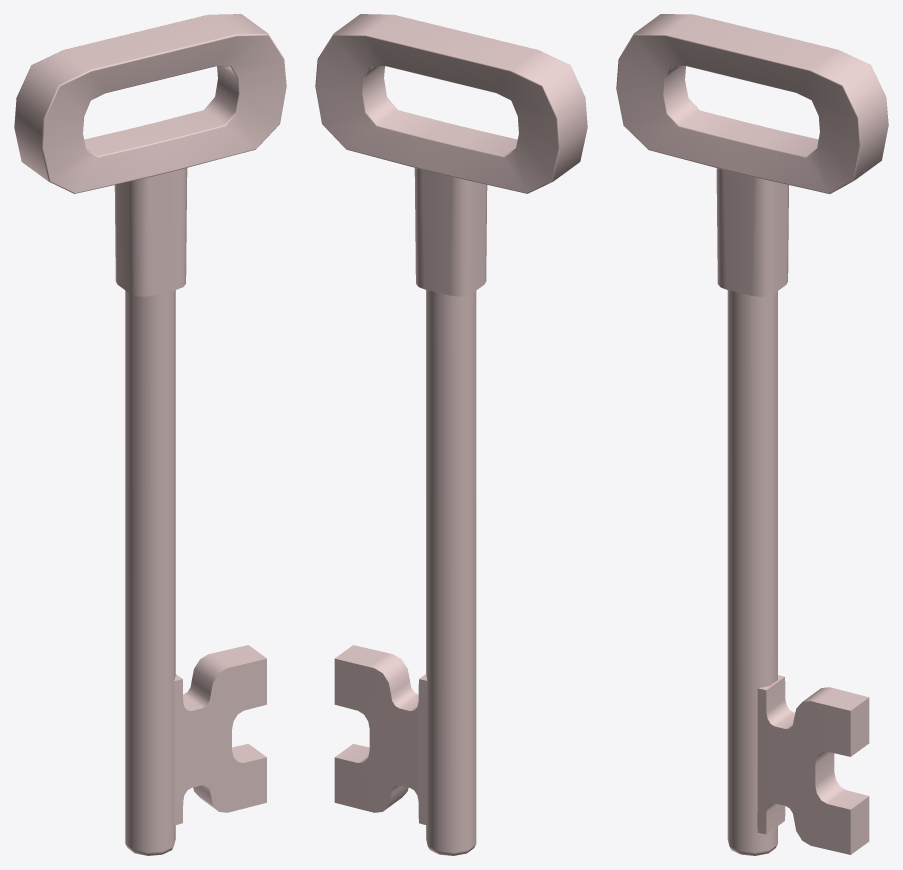
File: Llave.fbx
3 renders of one model, left to right at view 1: azimuth 30°, elevation 25°; view 2: azimuth 150°, elevation 25°; view 3: azimuth 330°, elevation 25°, orthographic.
Visible parts, largest first — view 1: Llave1; view 2: Llave1; view 3: Llave1.
Part boxes in pixels (x1,y1,x2,y2): Llave1: (14, 14, 286, 855); Llave1: (315, 14, 587, 855); Llave1: (616, 14, 888, 855).
Bounding box in the file's own units: 0.2436 × 0.7649 × 0.049.
